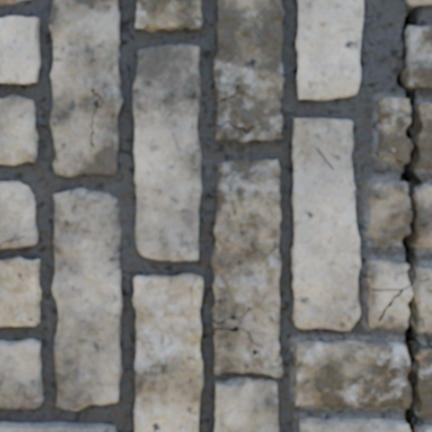brick: (212, 160, 282, 377), (53, 190, 122, 409), (133, 45, 201, 261), (293, 120, 359, 331), (49, 0, 122, 176), (134, 274, 203, 431), (215, 0, 284, 141), (297, 0, 363, 100), (215, 378, 278, 431), (0, 341, 43, 408), (0, 257, 41, 326), (0, 17, 39, 84), (0, 96, 37, 164), (0, 183, 37, 248), (136, 0, 202, 31), (404, 25, 431, 87), (0, 423, 116, 431), (408, 0, 431, 5), (0, 0, 19, 4)
broken_brick: (295, 340, 410, 409), (367, 181, 410, 246), (366, 260, 407, 328), (379, 96, 411, 164), (299, 417, 409, 431), (382, 290, 411, 329), (418, 345, 431, 418), (417, 184, 431, 248), (418, 102, 431, 169), (418, 281, 431, 334), (418, 266, 431, 278), (421, 424, 431, 431)
crack: (371, 0, 431, 431), (214, 306, 264, 359), (217, 75, 261, 103), (215, 119, 262, 134), (0, 235, 26, 248), (189, 276, 198, 300)
